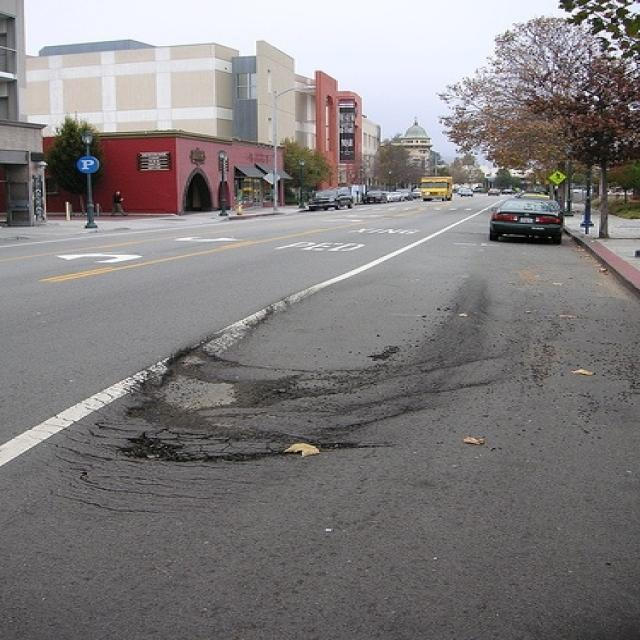pothole: (117, 300, 537, 484)
